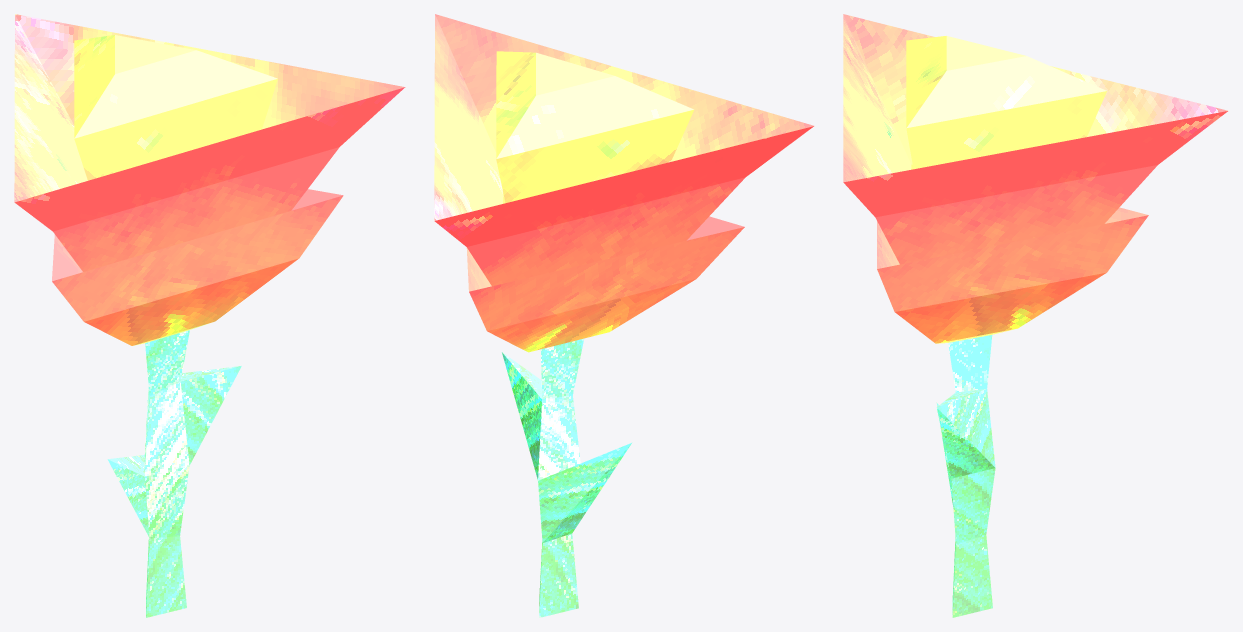
File: red_flower.glb
The picture shows the model from 3 angles, left to right: view 1: azimuth 30°, elevation 25°; view 2: azimuth 150°, elevation 25°; view 3: azimuth 270°, elevation 25°; orthographic projection. The views are drawn at different scales.
Visible parts, largest first — view 1: red_flower; view 2: red_flower; view 3: red_flower.
Boxes of the visible parts, bbox=[...] form: red_flower: bbox=[14, 14, 405, 617]; red_flower: bbox=[434, 14, 813, 617]; red_flower: bbox=[843, 14, 1228, 617].
Size of the model in its own units: 1.21 by 1.65 by 1.05.
